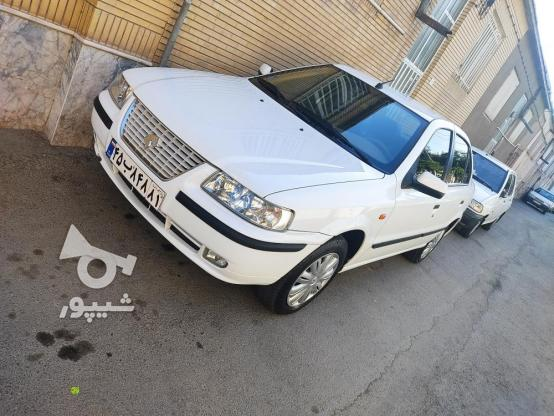car: (101, 139, 166, 214)
